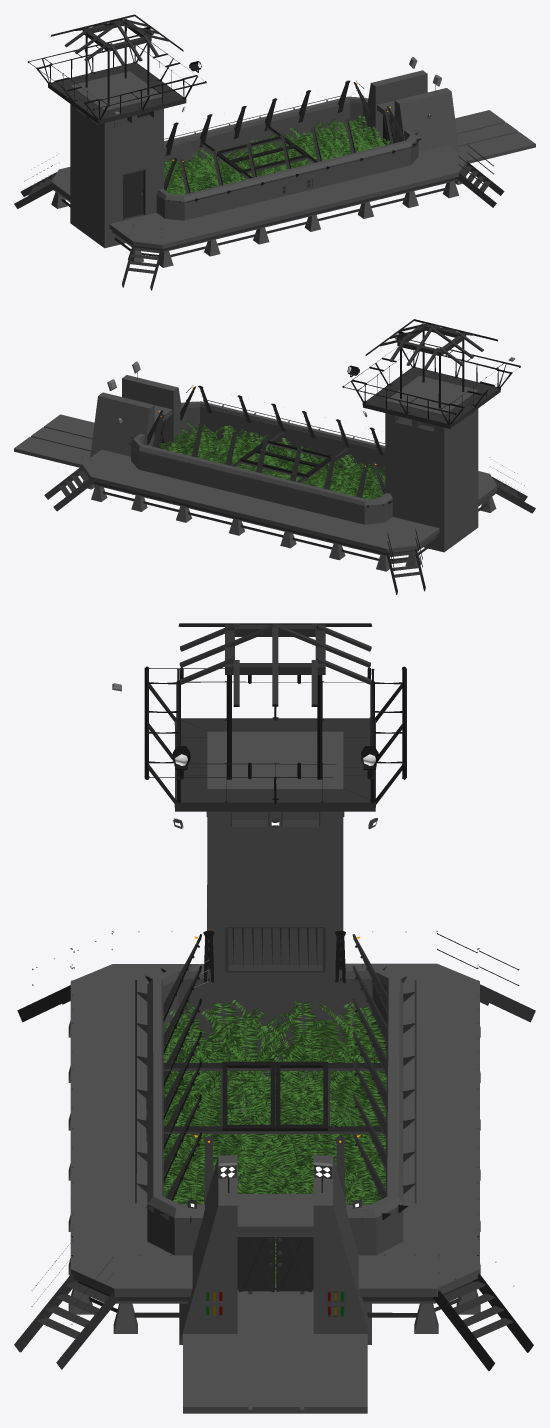
Rendered from recinto.glb.
The picture shows the model from 3 angles, top to bottom: view 1: azimuth 30°, elevation 25°; view 2: azimuth 150°, elevation 25°; view 3: azimuth 270°, elevation 25°; orthographic projection. The views are drawn at different scales.
Visible parts, largest first — view 1: Cube; view 2: Cube; view 3: Cube.
Boxes of the visible parts, x1,y1,x2,y2 form: Cube: [14, 14, 535, 290]; Cube: [14, 319, 535, 594]; Cube: [14, 623, 535, 1413].
Size of the model in its own units: 20.63 by 9.34 by 10.37.
